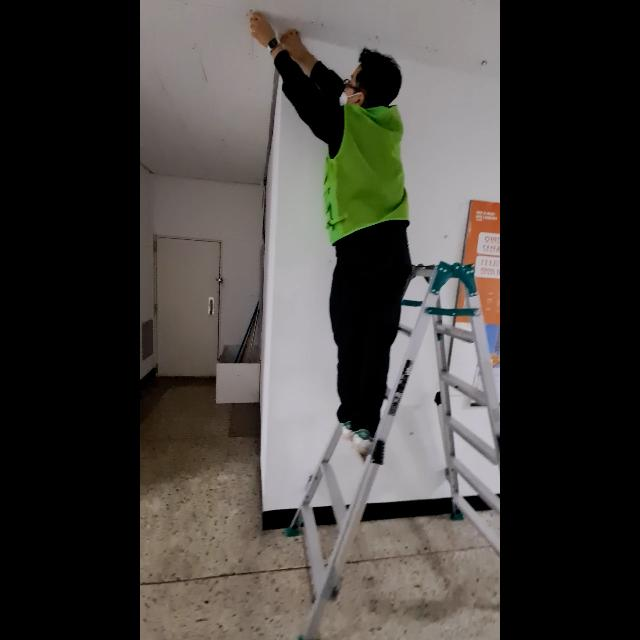hard hat: (278, 256, 500, 640)
vest: (243, 9, 421, 462)
